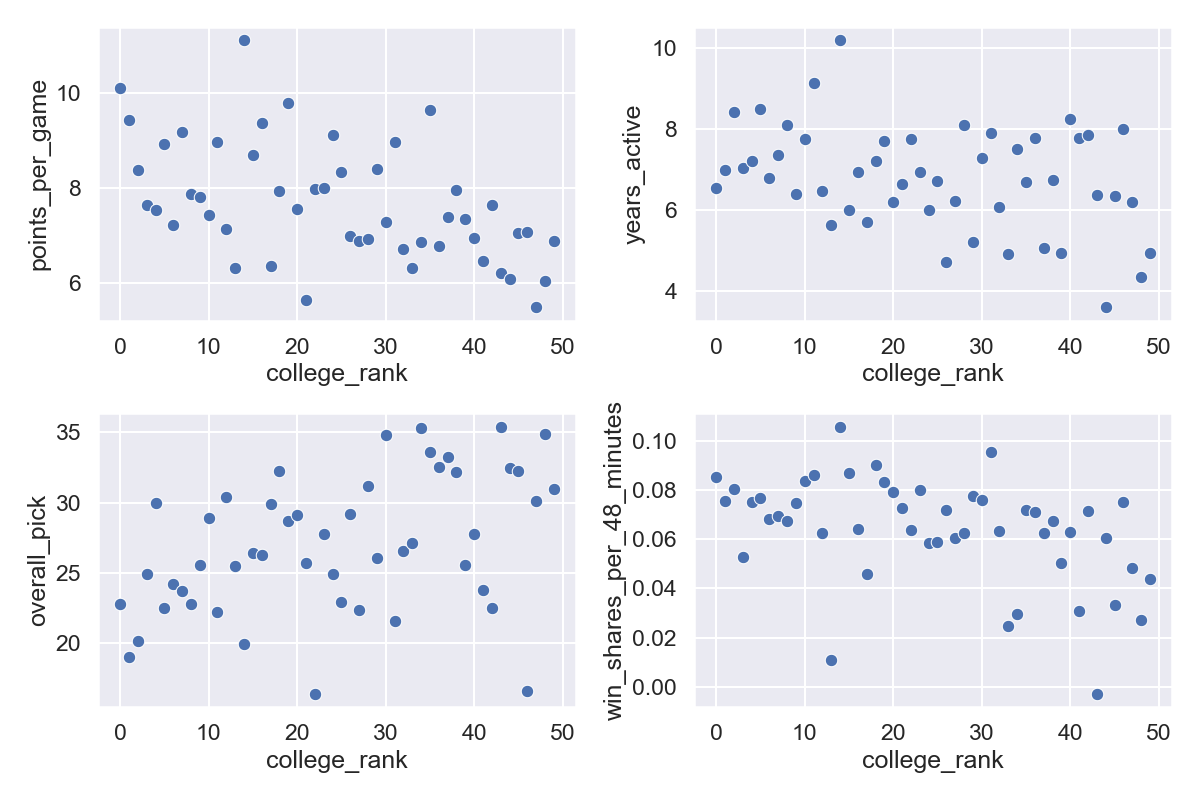

The page's visual inventory and layout, read from the dashboard file:
{"tool":"tableau","page":{"name":"regression dash","canvas":[1000,1000],"units":"permille","ordinal":8},"visuals":[{"type":"worksheet","title":"PPG regression","mark":"Circle","rows":["points_per_game"],"cols":["college_rank"],"box":[4.8,9.4,447.2,490.6]},{"type":"worksheet","title":"W/S regression","mark":"Circle","rows":["win_shares_per_48_minutes"],"cols":["college_rank"],"box":[452,9.4,447.2,490.6]},{"type":"filter","title":"PPG regression","param":"[federated.1xm7lbc1maku9m1ajvkx60gs4y1k].[none:college:nk]","box":[899.3,9.4,95.9,981.2]},{"type":"text","box":[42.2,359.6,310.2,61.1]},{"type":"text","box":[497.3,369,374.2,56.4]},{"type":"worksheet","title":"YA regression","mark":"Circle","rows":["years_active"],"cols":["college_rank"],"box":[4.8,500,447.2,490.6]},{"type":"worksheet","title":"o/p regression","mark":"Circle","rows":["overall_pick"],"cols":["college_rank"],"box":[452,500,447.2,490.6]},{"type":"text","box":[489.4,851.9,270.4,58.8]},{"type":"text","box":[43.5,854.3,283,58.8]}]}

Visuals, with their boxes on the dashboard's canvas, which has no fixed pixel size, in thousandths of its width and height (x1, y1, x2, y2). These are canvas units, not pixel positions in the 1200x800 screenshot, which may show the page scaled, cropped or inside an application window:
"PPG regression" worksheet (Circle marks): x1=5 y1=9 x2=452 y2=500
"W/S regression" worksheet (Circle marks): x1=452 y1=9 x2=899 y2=500
"PPG regression" filter: x1=899 y1=9 x2=995 y2=991
text: x1=42 y1=360 x2=352 y2=421
text: x1=497 y1=369 x2=872 y2=425
"YA regression" worksheet (Circle marks): x1=5 y1=500 x2=452 y2=991
"o/p regression" worksheet (Circle marks): x1=452 y1=500 x2=899 y2=991
text: x1=489 y1=852 x2=760 y2=911
text: x1=44 y1=854 x2=326 y2=913
